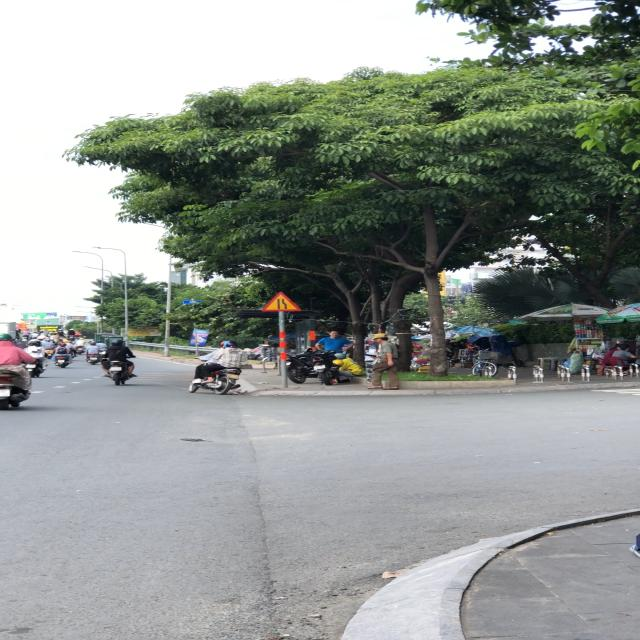Bien bao duong bi thu hep: (261, 290, 302, 312)
